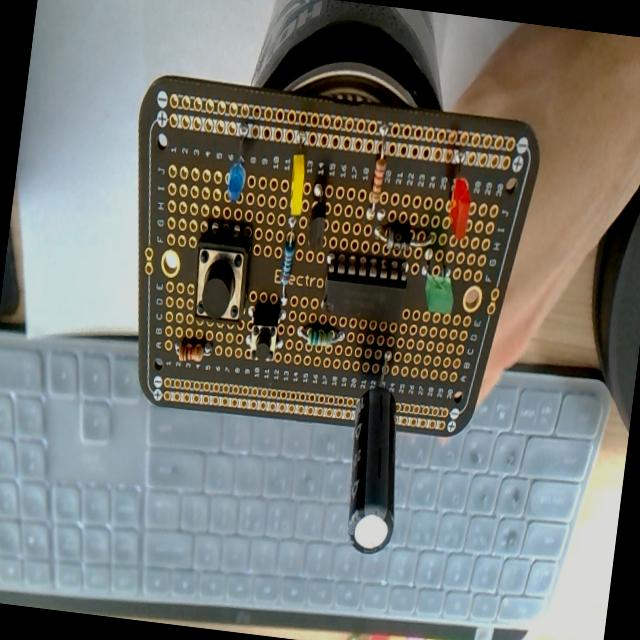Electrolytic capacitor: (337, 348, 414, 552)
IC: (322, 254, 411, 328)
diode: (372, 222, 430, 255), (296, 322, 344, 351)
led: (442, 151, 476, 239), (283, 143, 311, 225), (224, 124, 252, 204), (420, 261, 458, 316)
resistor: (364, 124, 392, 220), (178, 340, 210, 364), (278, 241, 294, 286)
switch: (188, 228, 253, 326), (242, 302, 286, 363)
transistor: (304, 181, 330, 247)
